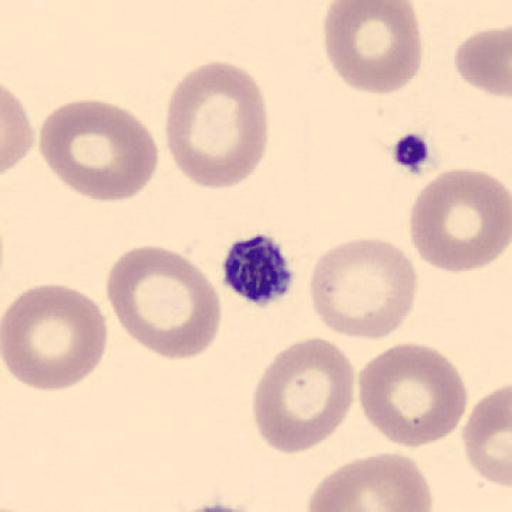Platelet: (219, 232, 297, 308)
RBC: (164, 59, 270, 192), (104, 243, 222, 361), (38, 98, 158, 204), (252, 334, 356, 454), (356, 341, 469, 449), (1, 281, 109, 393), (308, 235, 419, 342), (409, 166, 511, 275), (321, 0, 424, 96), (304, 451, 434, 512), (461, 383, 512, 489), (453, 25, 512, 98), (2, 82, 34, 176), (168, 499, 267, 512)
